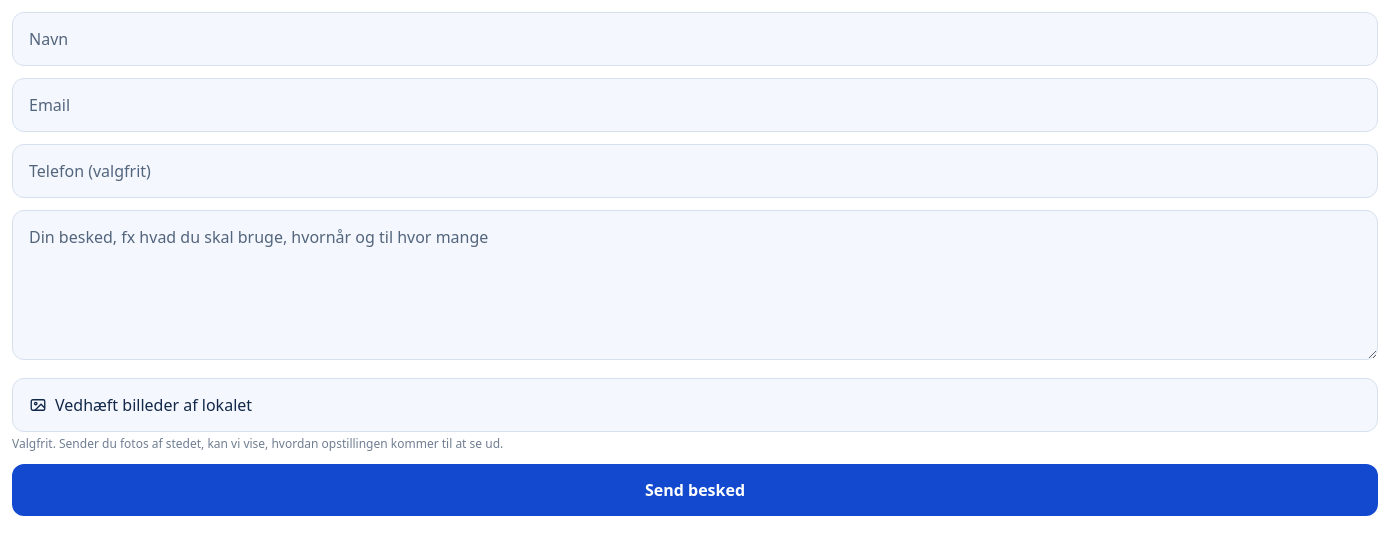
Test: ContactForm-komponenten › viser succes efter afsendelse
This screenshot has width=1390, height=533.
Type "Anna" into the field with placeholder "Navn" at point(695, 39), box [12,12,1378,66]
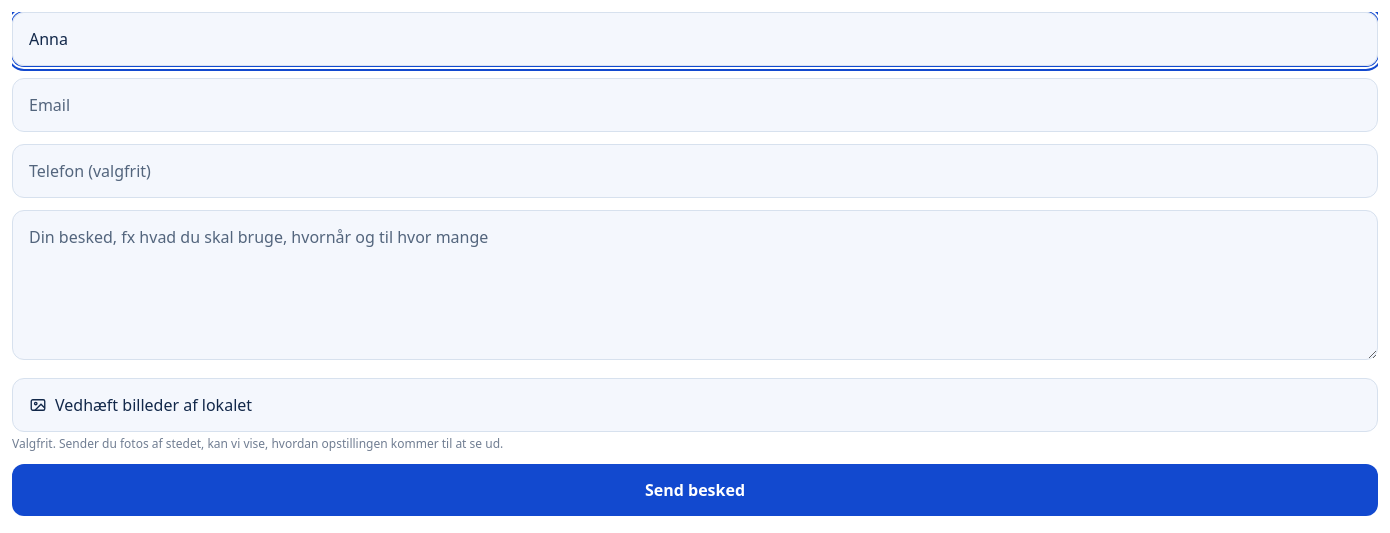
Type "anna@example.com" into the field with placeholder "Email" at point(695, 105), box [12,78,1378,132]
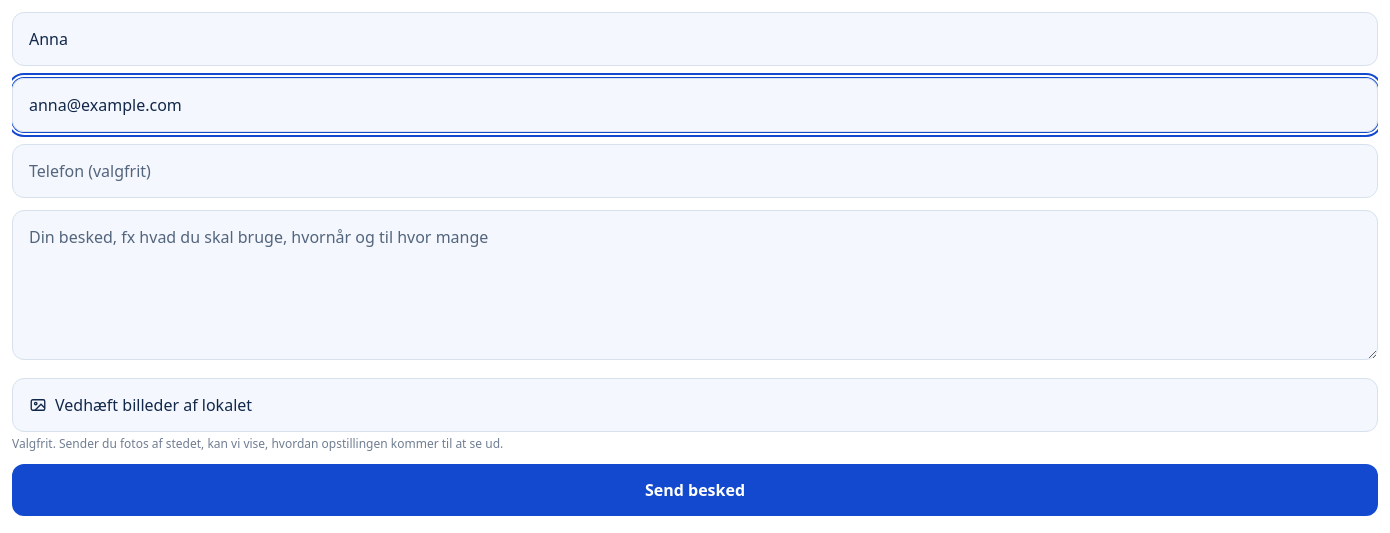
Type "Kan jeg leje lys på lørdag?" into the text box with placeholder "Din besked" at point(695, 285), box [12,210,1378,360]
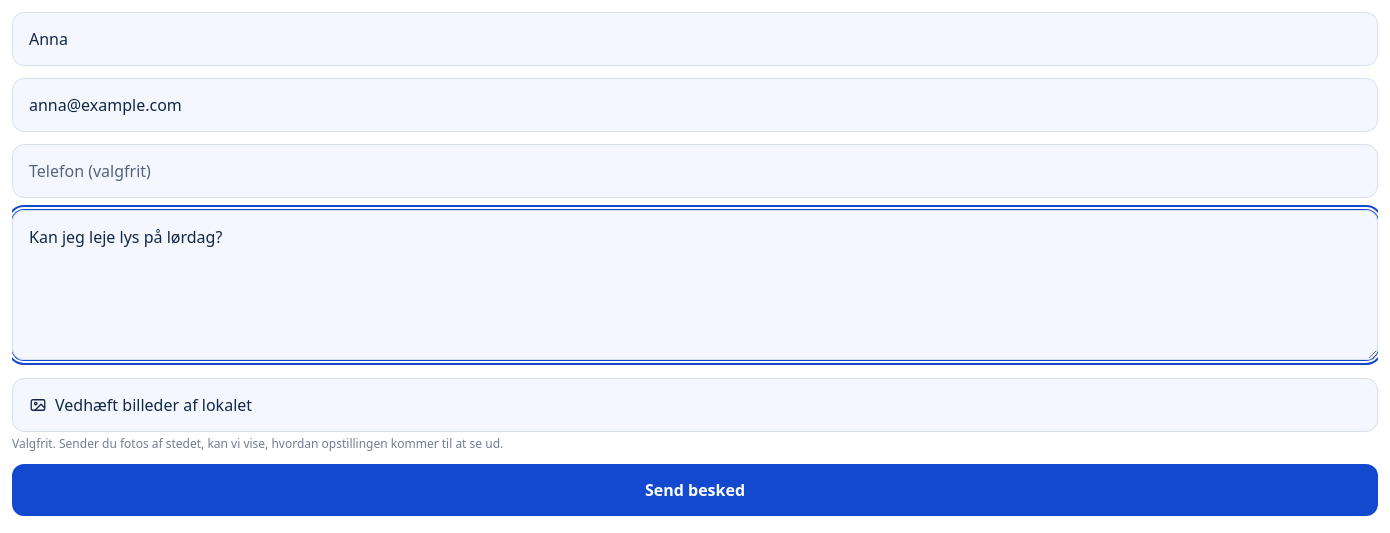
Click the button "Send besked" at point(695, 490), box [12,464,1378,516]
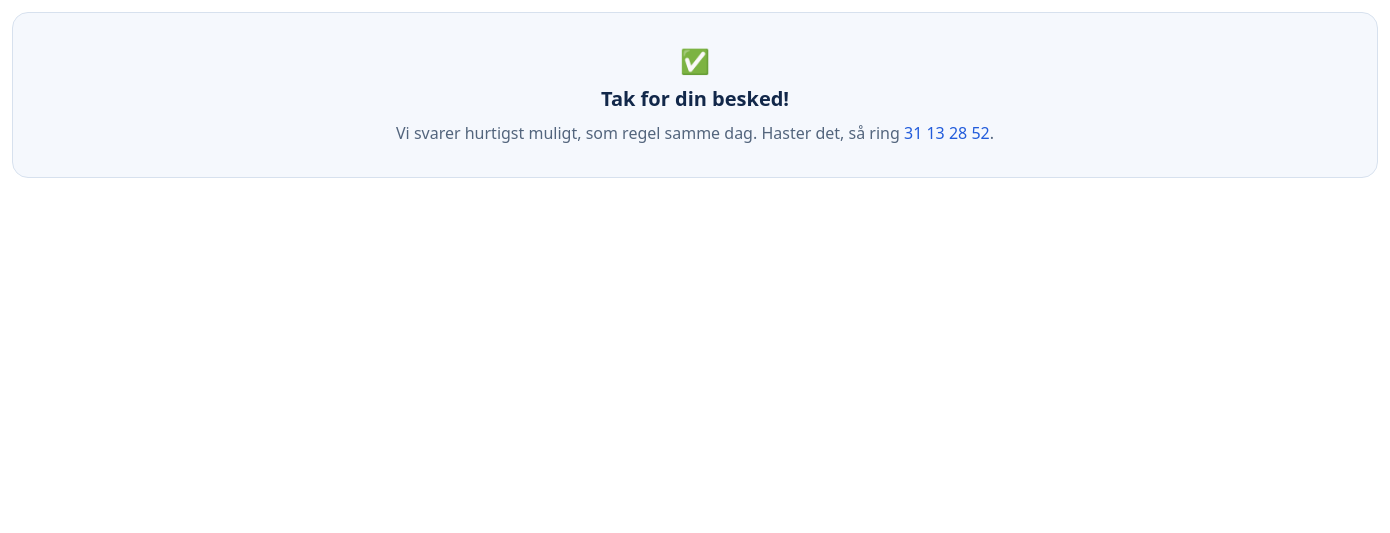
Expected: the element with test id "contact-success" is shown, [12,12,1378,178]
